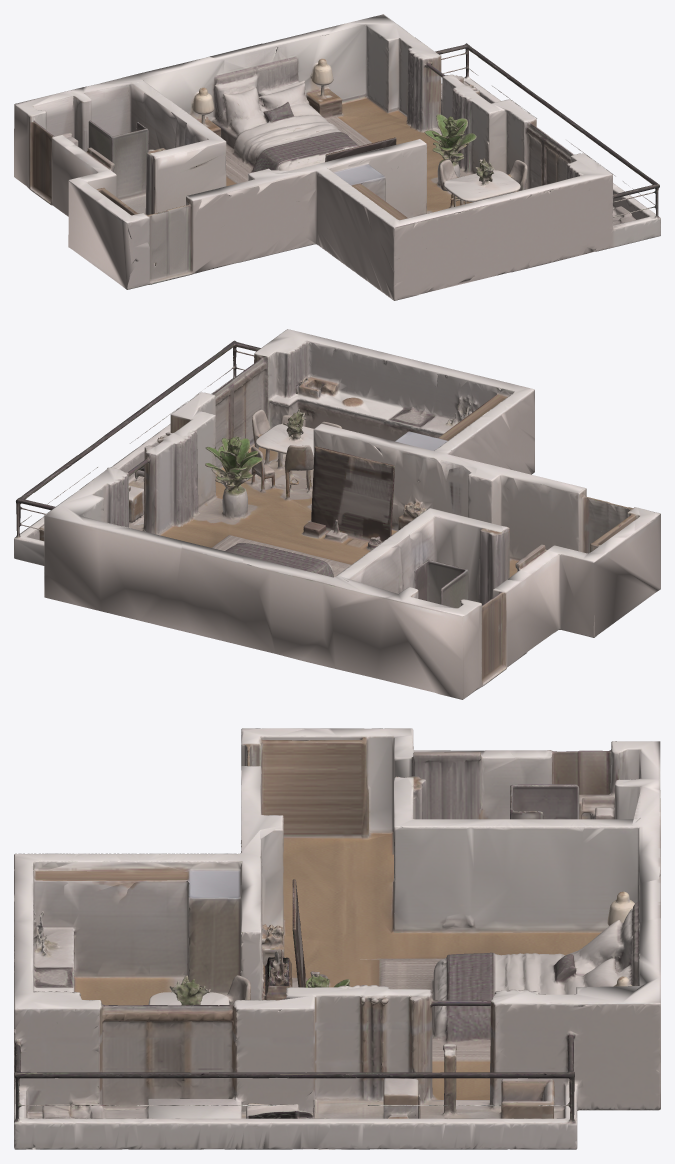
3 views of the same model, one above another, from view 1: azimuth 30°, elevation 25°; view 2: azimuth 150°, elevation 25°; view 3: azimuth 270°, elevation 25° (orthographic). The views are drawn at different scales.
Parts seen in each view (by area): view 1: Mesh_0; view 2: Mesh_0; view 3: Mesh_0.
Part boxes in pixels (x1=…): Mesh_0: x1=14, y1=14, x2=660, y2=300; Mesh_0: x1=14, y1=329, x2=660, y2=699; Mesh_0: x1=14, y1=728, x2=660, y2=1149.
Bounding box in the file's own units: 1.91 × 0.3021 × 1.61.
1 material, 1 textured.
